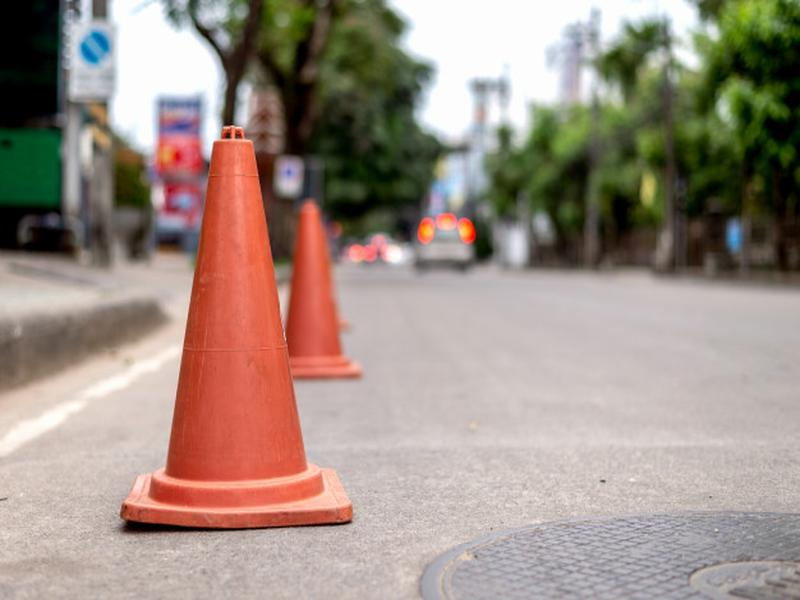Cone: (117, 124, 354, 526), (276, 196, 362, 379)
